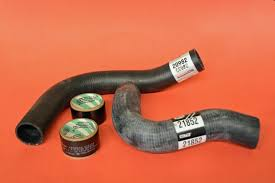radiator_hose: (25, 50, 203, 151), (113, 84, 259, 152)
